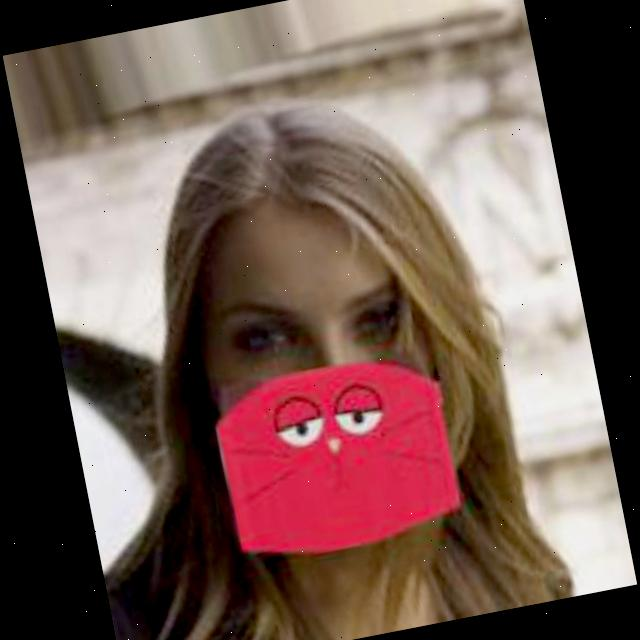suspicion: (62, 62, 534, 594)
